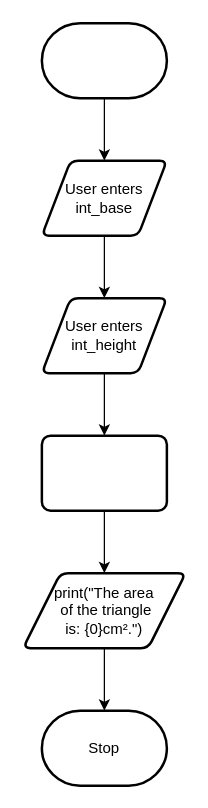
This 208x808 diagram has some shape labels left out. Each missing label, with the centre of its shape:
area = int_base * int_height / 2: (104,472)
Start: (104,60)
